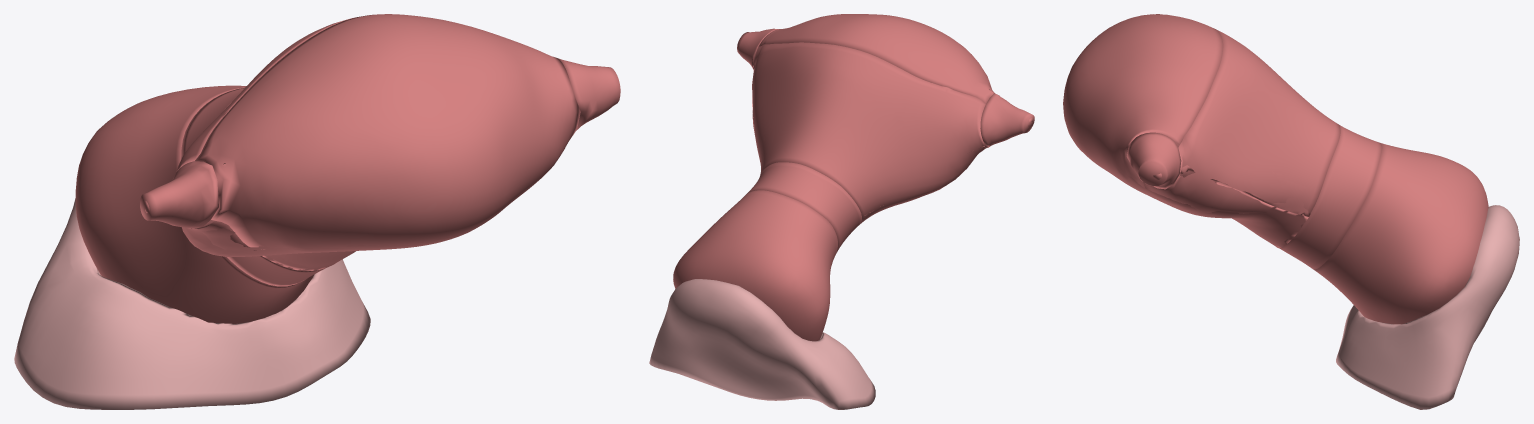
3 views of the same model, side by side, from view 1: azimuth 30°, elevation 25°; view 2: azimuth 150°, elevation 25°; view 3: azimuth 270°, elevation 25° (orthographic). The views are drawn at different scales.
Visible parts, largest first — view 1: VH_F_fundus_of_uterus, VH_F_cervicovaginal_junction, VH_F_cervix, VH_F_cornua, VH_F_posterior_wall_of_uterus, VH_F_lower_uterine_segment, VH_F_body_of_uterus; view 2: VH_F_body_of_uterus, VH_F_cervicovaginal_junction, VH_F_cervix, VH_F_fundus_of_uterus, VH_F_lower_uterine_segment, VH_F_cornua; view 3: VH_F_cervix, VH_F_body_of_uterus, VH_F_fundus_of_uterus, VH_F_cervicovaginal_junction, VH_F_lower_uterine_segment, VH_F_posterior_wall_of_uterus, VH_F_cornua, VH_F_anterior_wall_of_uterus.
Part boxes in pixels (x1,y1,x2,y2): VH_F_fundus_of_uterus: (195,14,580,249); VH_F_cervicovaginal_junction: (14,198,370,409); VH_F_cervix: (75,85,314,323); VH_F_cornua: (140,58,620,228); VH_F_posterior_wall_of_uterus: (202,147,565,270); VH_F_lower_uterine_segment: (181,87,325,286); VH_F_body_of_uterus: (176,18,575,269); VH_F_body_of_uterus: (752,42,988,224); VH_F_cervicovaginal_junction: (649,279,875,409); VH_F_cervix: (673,190,837,341); VH_F_fundus_of_uterus: (758,14,994,104); VH_F_lower_uterine_segment: (746,162,861,253); VH_F_cornua: (737,28,1034,147); VH_F_cervix: (1314,143,1488,324); VH_F_body_of_uterus: (1143,30,1340,227); VH_F_fundus_of_uterus: (1063,14,1223,188); VH_F_cervicovaginal_junction: (1336,205,1519,409); VH_F_lower_uterine_segment: (1279,125,1382,269); VH_F_posterior_wall_of_uterus: (1086,155,1308,248); VH_F_cornua: (1126,14,1181,189); VH_F_anterior_wall_of_uterus: (1180,165,1310,216).
Size of the model in its own units: 0.0525 by 0.0508 by 0.0629.
